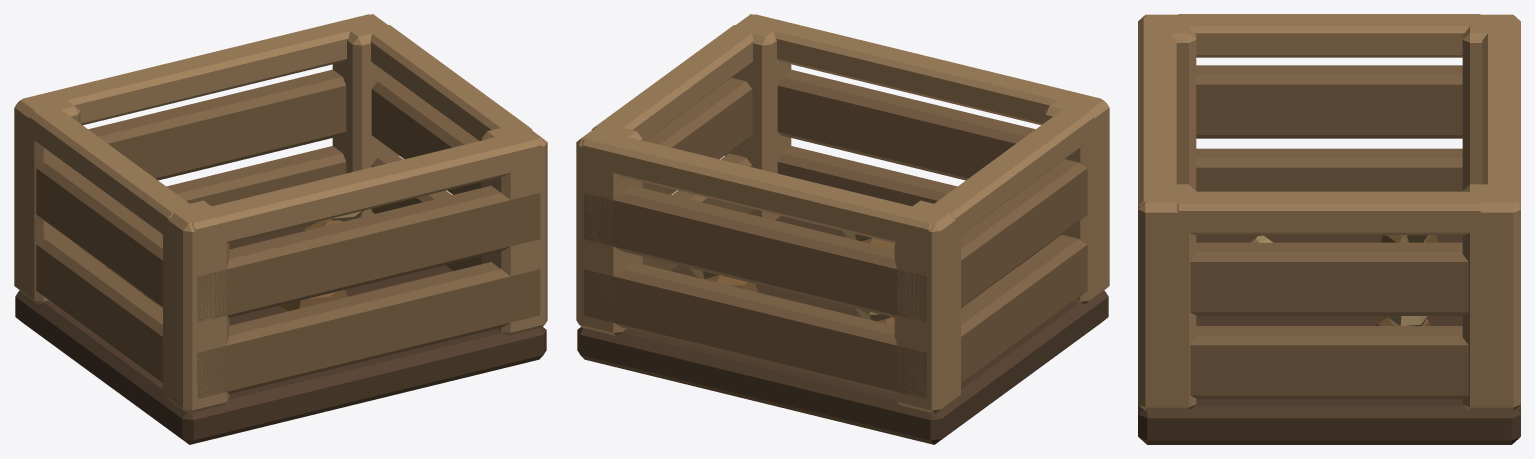
The model's file is juniper_seed_low.glb.
3 views of the same model, side by side, from view 1: azimuth 30°, elevation 25°; view 2: azimuth 150°, elevation 25°; view 3: azimuth 270°, elevation 25° (orthographic). The views are drawn at different scales.
Parts seen in each view (by area): view 1: juniper_seed_low; view 2: juniper_seed_low; view 3: juniper_seed_low.
Boxes of the visible parts, <box> form: juniper_seed_low: <box>14,14,547,444</box>; juniper_seed_low: <box>576,14,1109,444</box>; juniper_seed_low: <box>1138,14,1520,444</box>.
Bounding box in the file's own units: 0.75 × 0.4375 × 0.625.
